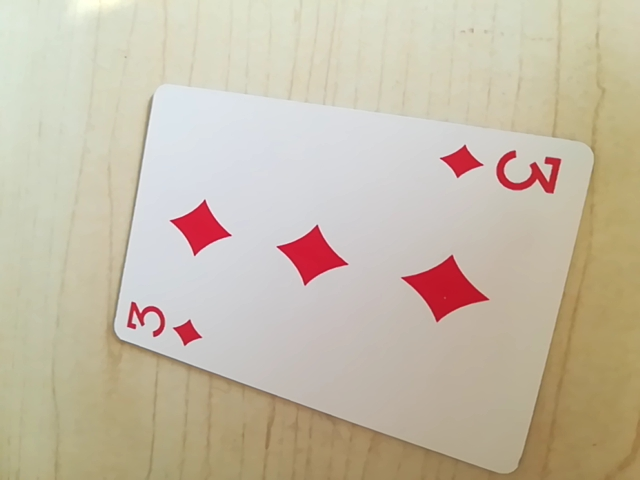fk 3: (439, 140, 562, 198), (122, 293, 209, 350)
